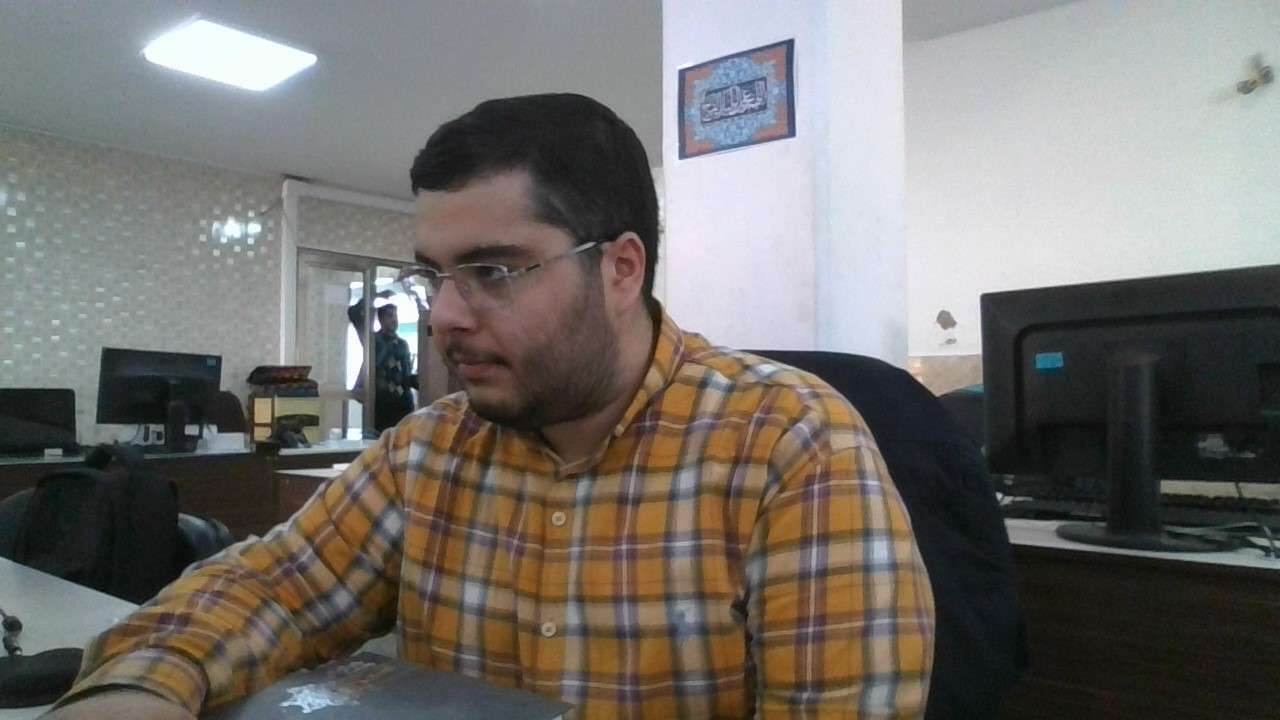NoMask: (427, 288, 613, 429)
